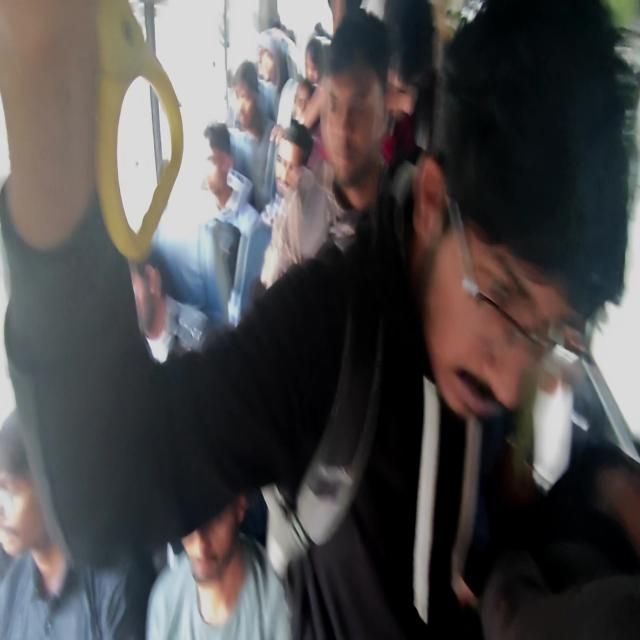person: (427, 212, 569, 433), (318, 9, 392, 202), (1, 424, 47, 560), (479, 548, 549, 637), (177, 496, 244, 586), (230, 60, 270, 145), (274, 118, 316, 197), (130, 255, 166, 347), (200, 121, 238, 207), (388, 62, 422, 116), (304, 35, 326, 87), (0, 521, 15, 591), (243, 274, 266, 314), (326, 0, 350, 32), (260, 193, 282, 227), (256, 45, 276, 81), (151, 541, 170, 577), (169, 534, 186, 558), (280, 26, 297, 44), (292, 106, 306, 125), (275, 178, 289, 195), (201, 176, 212, 191), (314, 22, 325, 36)
